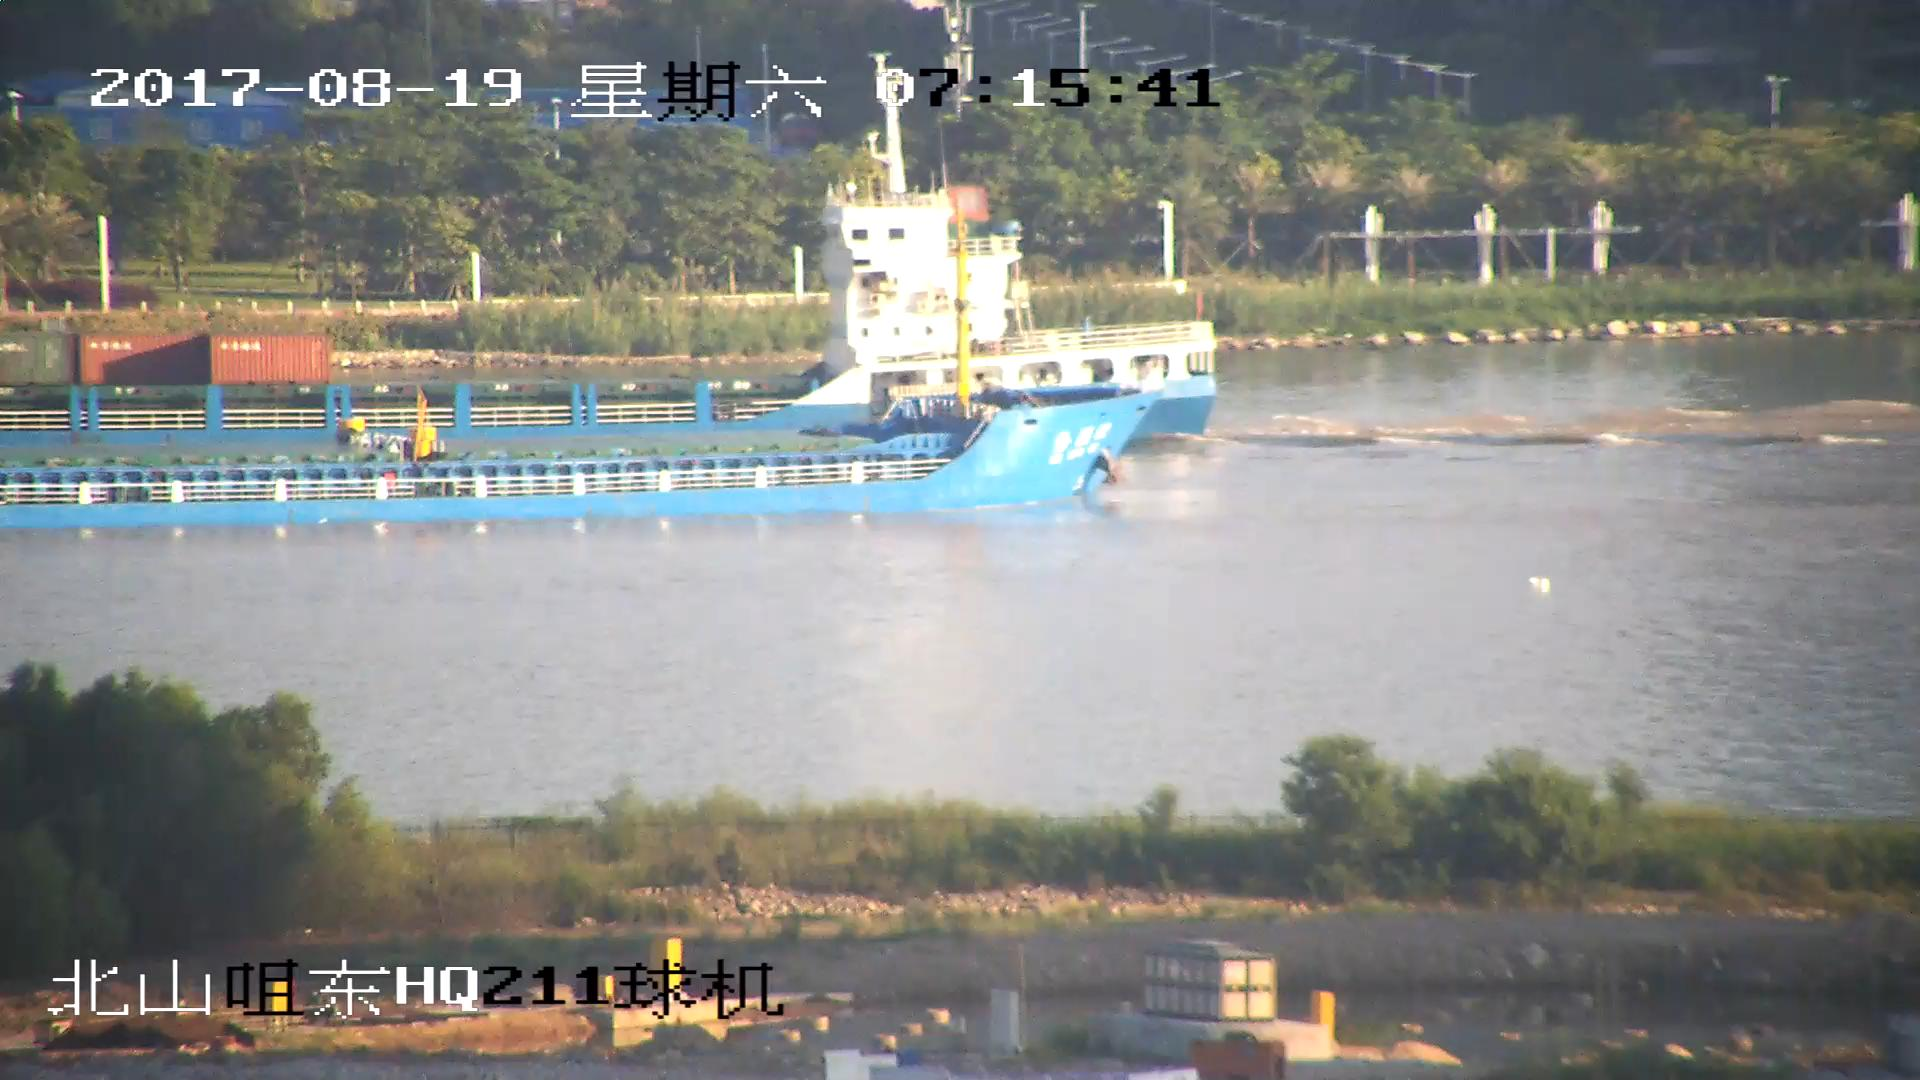general cargo ship: (1, 111, 1227, 440), (1, 202, 1140, 529)
